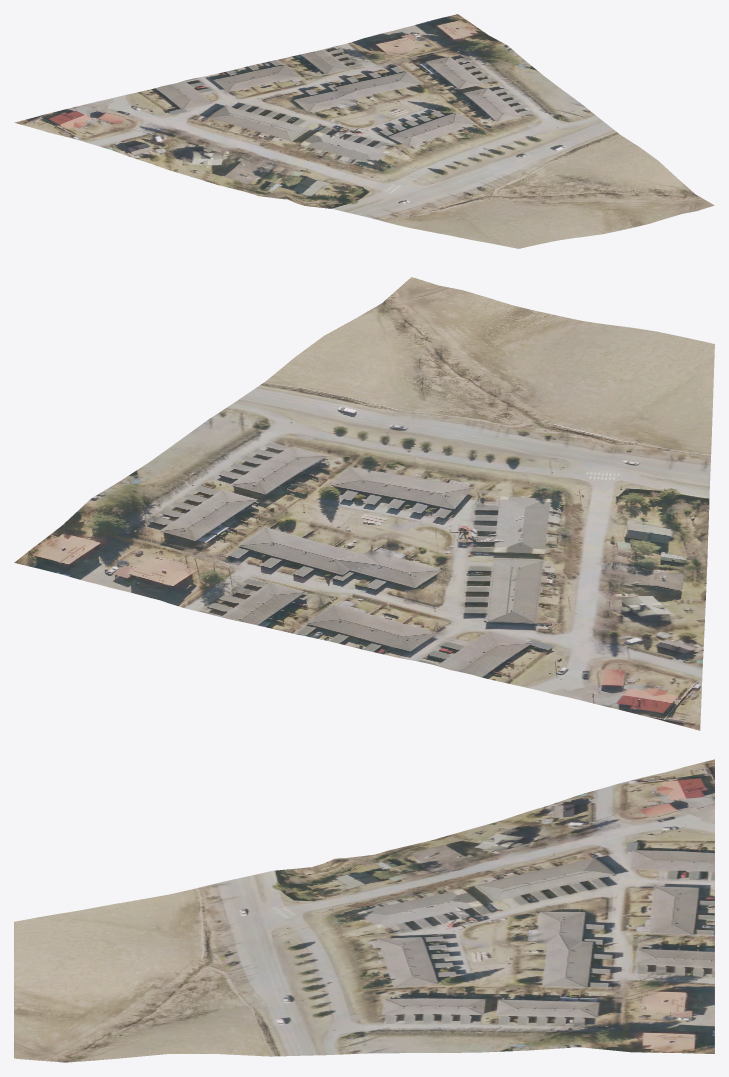
Rendered from CM_Terrain_24489639_6818156.fbx.
3 renders of one model, top to bottom at view 1: azimuth 30°, elevation 25°; view 2: azimuth 150°, elevation 25°; view 3: azimuth 270°, elevation 25°, orthographic. The views are drawn at different scales.
Visible parts, largest first — view 1: CM_Terrain_24489639_6818156_LOD0; view 2: CM_Terrain_24489639_6818156_LOD0; view 3: CM_Terrain_24489639_6818156_LOD0.
Boxes of the visible parts, box(x1,y1,x2,y2) form: CM_Terrain_24489639_6818156_LOD0: box(14, 14, 714, 248); CM_Terrain_24489639_6818156_LOD0: box(14, 277, 714, 730); CM_Terrain_24489639_6818156_LOD0: box(14, 759, 714, 1062).
Size of what is drawn, in the model's own units: 204 by 7.44 by 205.
